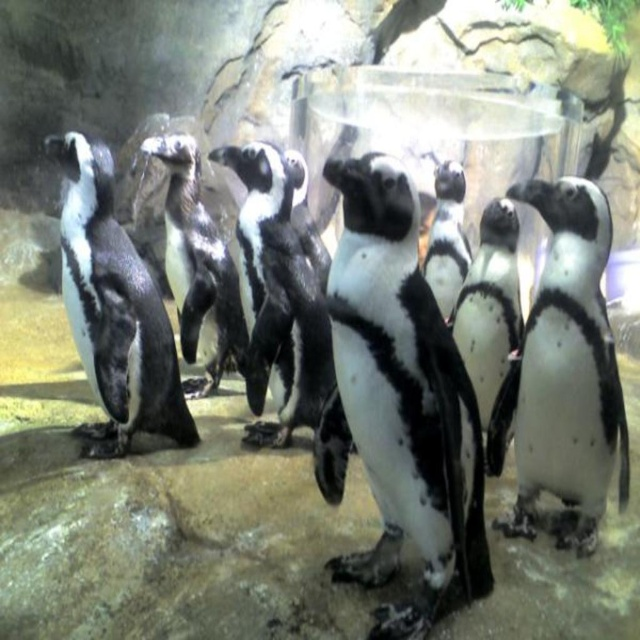Penguin: (315, 139, 489, 639), (484, 173, 633, 559), (39, 129, 198, 453), (207, 132, 355, 472), (143, 135, 259, 397), (439, 197, 525, 489), (275, 160, 339, 308), (418, 157, 473, 324)
